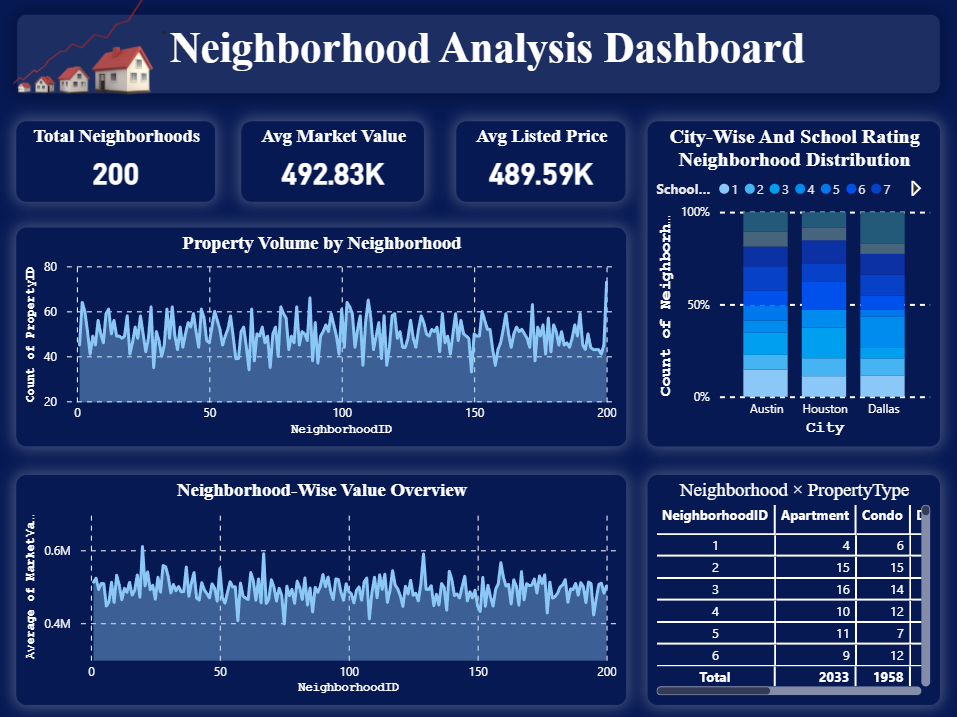

The dashboard page shown, as its layout file describes it:
{"tool":"powerbi","page":{"name":"Page 8","canvas":[960,720],"ordinal":7},"visuals":[{"type":"textbox","box":[16.9,14.5,924.1,79.6],"z":0},{"type":"hundredPercentStackedColumnChart","title":"City-Wise And School Rating Neighborhood Distribution","fields":{"Y":["CountNonNull(Neighborhoods.NeighborhoodID)"],"Series":["Neighborhoods.SchoolRating"],"Category":["Neighborhoods.City"]},"box":[649.1,123.1,292,324.5],"z":1000},{"type":"card","title":"Total Neighborhoods","fields":{"Values":["Count(Neighborhoods.NeighborhoodID)"]},"box":[17.5,122.5,198.8,80],"z":2000},{"type":"card","title":"Avg Listed Price","fields":{"Values":["Avg(Properties.ListedPrice)"]},"box":[457.5,122.5,168.8,80],"z":3000},{"type":"card","title":"Avg Market Value","fields":{"Values":["Avg(Properties.MarketValue)"]},"box":[242.5,122.5,182.5,80],"z":4000},{"type":"lineChart","title":"Neighborhood-Wise Value Overview","fields":{"Category":["Neighborhoods.NeighborhoodID"],"Y":["Avg(Properties.MarketValue)"]},"box":[16.9,476.5,609.3,229.2],"z":5000},{"type":"lineChart","title":"Property Volume by Neighborhood","fields":{"Category":["Neighborhoods.NeighborhoodID"],"Y":["CountNonNull(Properties.PropertyID)"]},"box":[16.9,229.2,609.3,218.4],"z":6000},{"type":"pivotTable","title":"Neighborhood × PropertyType","fields":{"Rows":["Neighborhoods.NeighborhoodID"],"Columns":["Properties.PropertyType"],"Values":["CountNonNull(Properties.PropertyID)"]},"box":[649.1,476.5,292,229.2],"z":7000},{"type":"image","box":[0,0,171.2,107.5],"z":8000}]}

Visuals, with their boxes in screenshot pixels (x1, y1, x2, y2), scaled from the page's 960x720 canvas onto the 957x717 screenshot:
textbox: bbox(17, 14, 938, 94)
"City-Wise And School Rating Neighborhood Distribution" hundredPercentStackedColumnChart: bbox(647, 123, 938, 446)
"Total Neighborhoods" card: bbox(17, 122, 216, 202)
"Avg Listed Price" card: bbox(456, 122, 624, 202)
"Avg Market Value" card: bbox(242, 122, 424, 202)
"Neighborhood-Wise Value Overview" lineChart: bbox(17, 475, 624, 703)
"Property Volume by Neighborhood" lineChart: bbox(17, 228, 624, 446)
"Neighborhood × PropertyType" pivotTable: bbox(647, 475, 938, 703)
image: bbox(0, 0, 171, 107)
